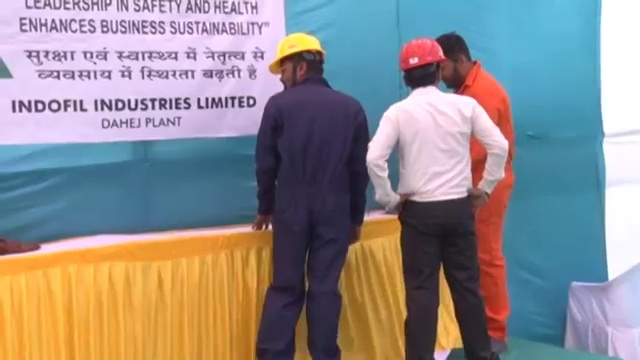helmet: (267, 33, 328, 75), (396, 38, 447, 71)
helmet_off: (438, 31, 480, 89)
helmet_on: (266, 32, 329, 89), (395, 37, 449, 91)
person: (367, 36, 509, 360), (251, 31, 370, 359), (438, 30, 517, 352)
